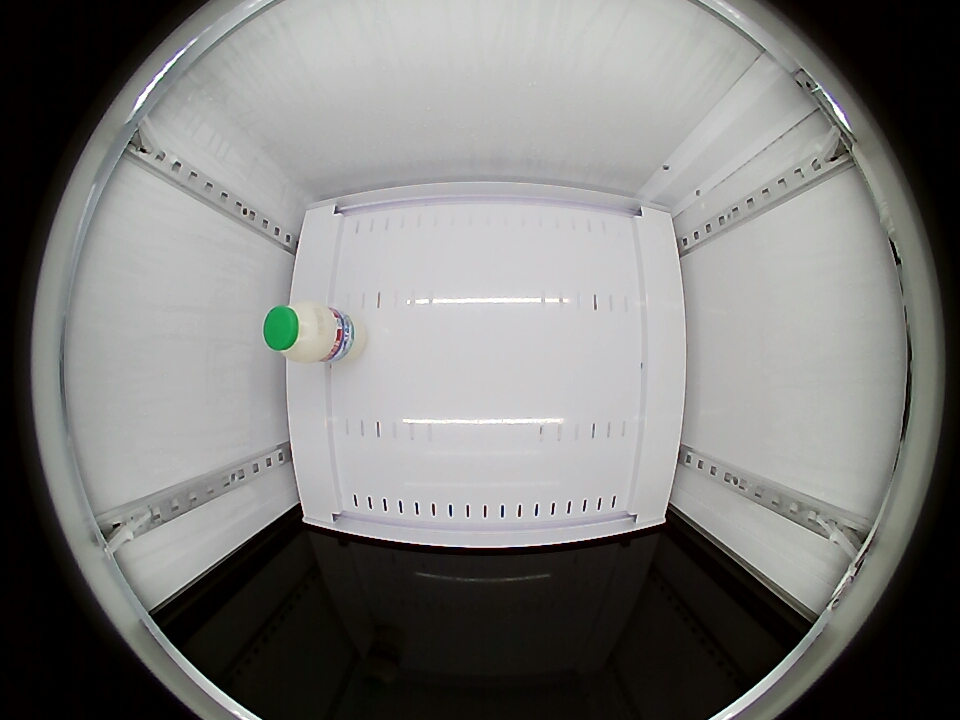liziyuan: (263, 302, 336, 364)
